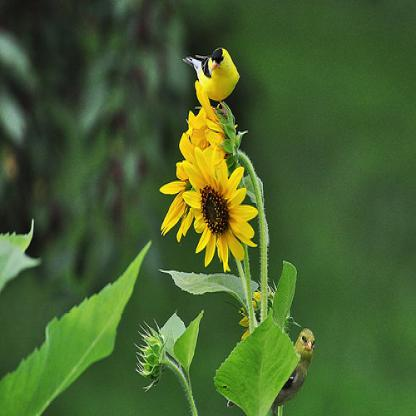SUN FLOWER: (145, 20, 325, 401)
